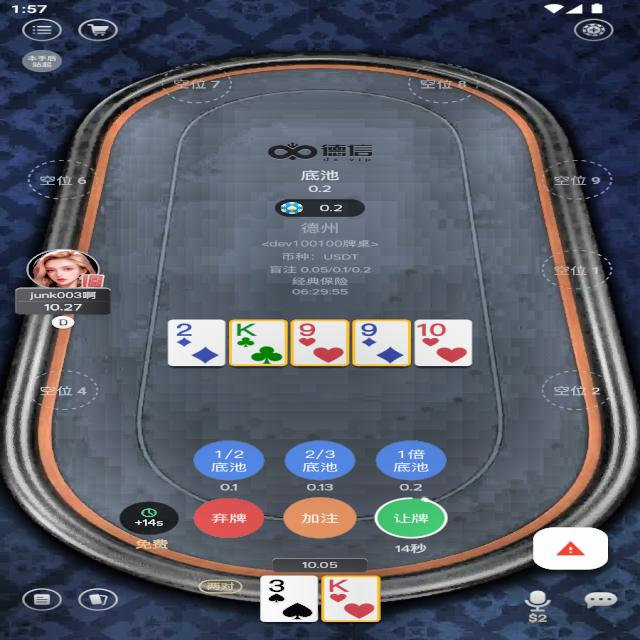10h: (416, 322, 449, 338)
2f: (173, 322, 200, 338)
3s: (264, 578, 291, 594)
9f: (358, 320, 383, 338)
9h: (295, 321, 323, 338)
Kh: (325, 578, 354, 594)
Km: (232, 322, 258, 338)
